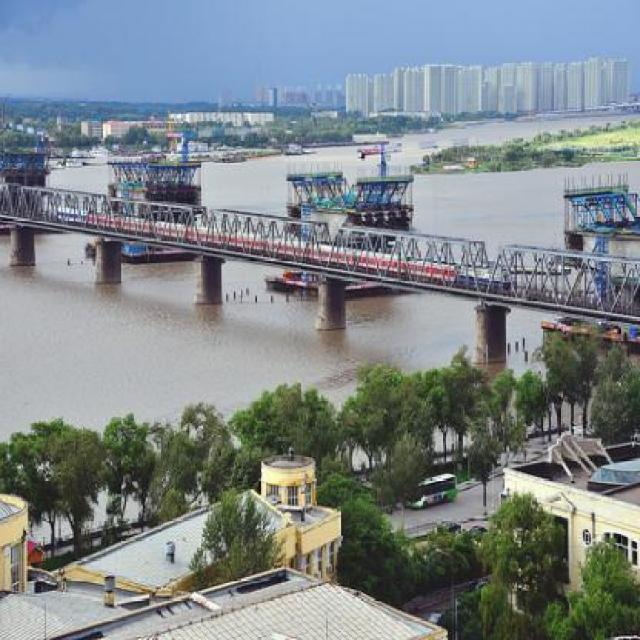ship: (277, 160, 415, 289), (89, 151, 206, 255), (557, 172, 638, 286), (0, 145, 48, 232)
